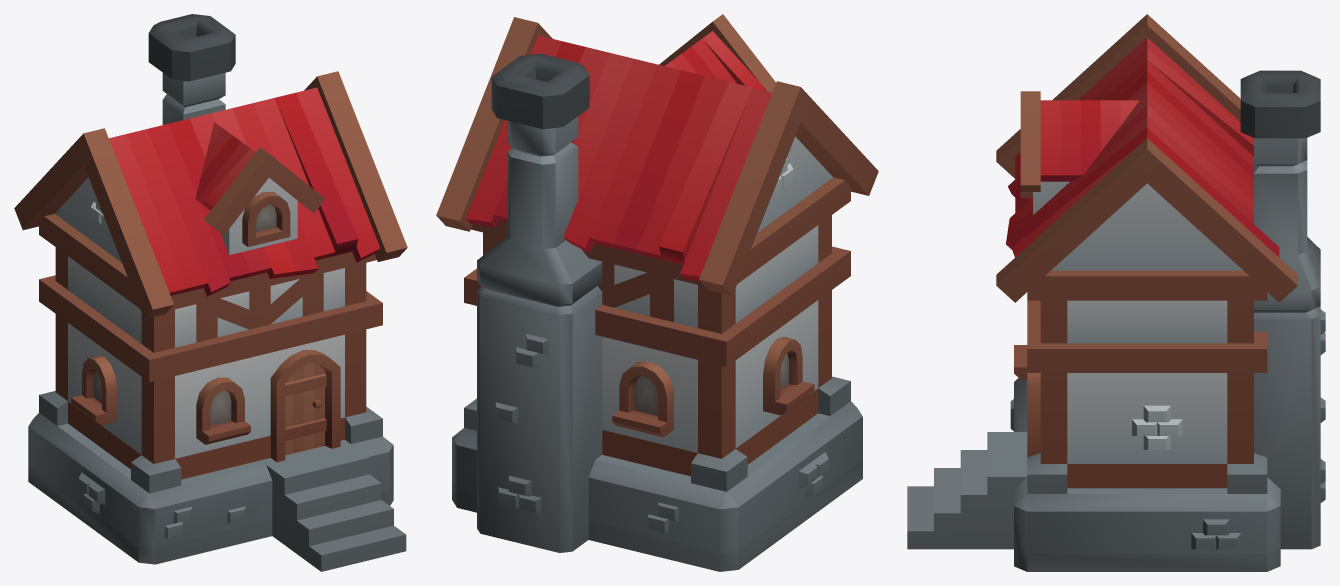
The model's file is H_home_B_red.glb.
The picture shows the model from 3 angles, left to right: view 1: azimuth 30°, elevation 25°; view 2: azimuth 150°, elevation 25°; view 3: azimuth 270°, elevation 25°; orthographic projection. The views are drawn at different scales.
Parts seen in each view (by area): view 1: building_home_B_red; view 2: building_home_B_red; view 3: building_home_B_red.
Part boxes in pixels (bbox=[...]): building_home_B_red: bbox=[14, 14, 407, 571]; building_home_B_red: bbox=[436, 14, 878, 571]; building_home_B_red: bbox=[907, 14, 1325, 571].
Bounding box in the file's own units: 0.8749 × 1.28 × 1.1.
